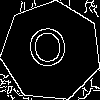O: (26, 26, 71, 77)
